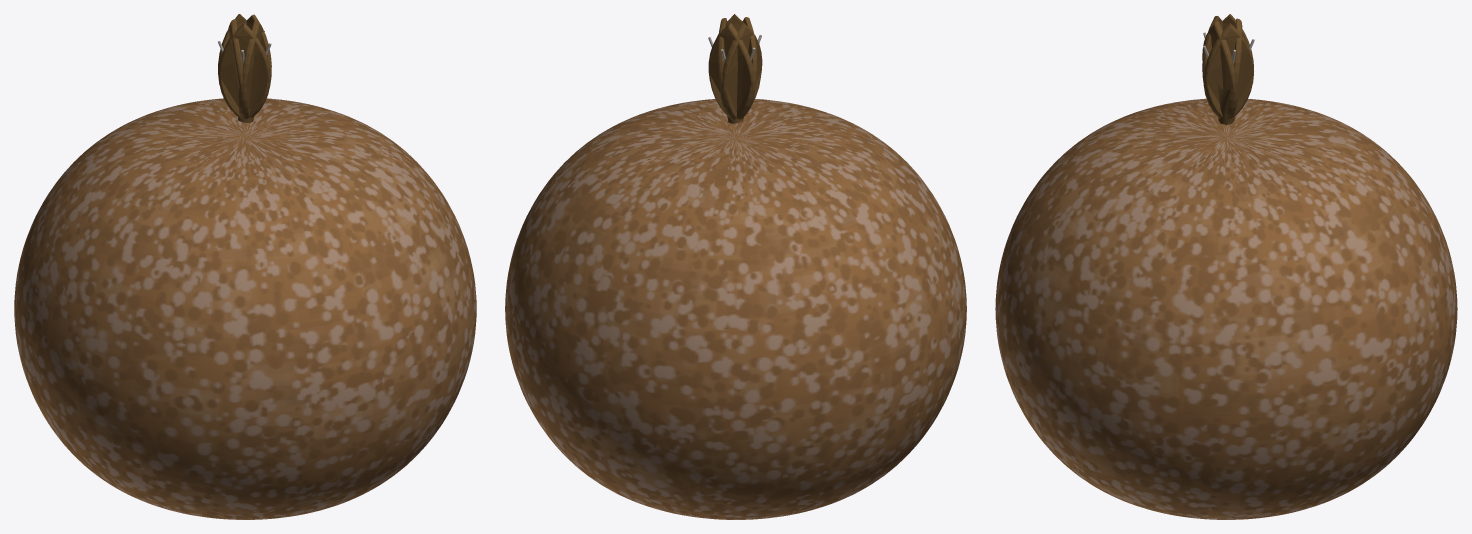
The model's file is medlar.glb.
The picture shows the model from 3 angles, left to right: view 1: azimuth 30°, elevation 25°; view 2: azimuth 150°, elevation 25°; view 3: azimuth 270°, elevation 25°; orthographic projection.
Bounding box in the file's own units: 0.1539 × 0.1699 × 0.1539.
Materials: 12 (1 with a texture image).
